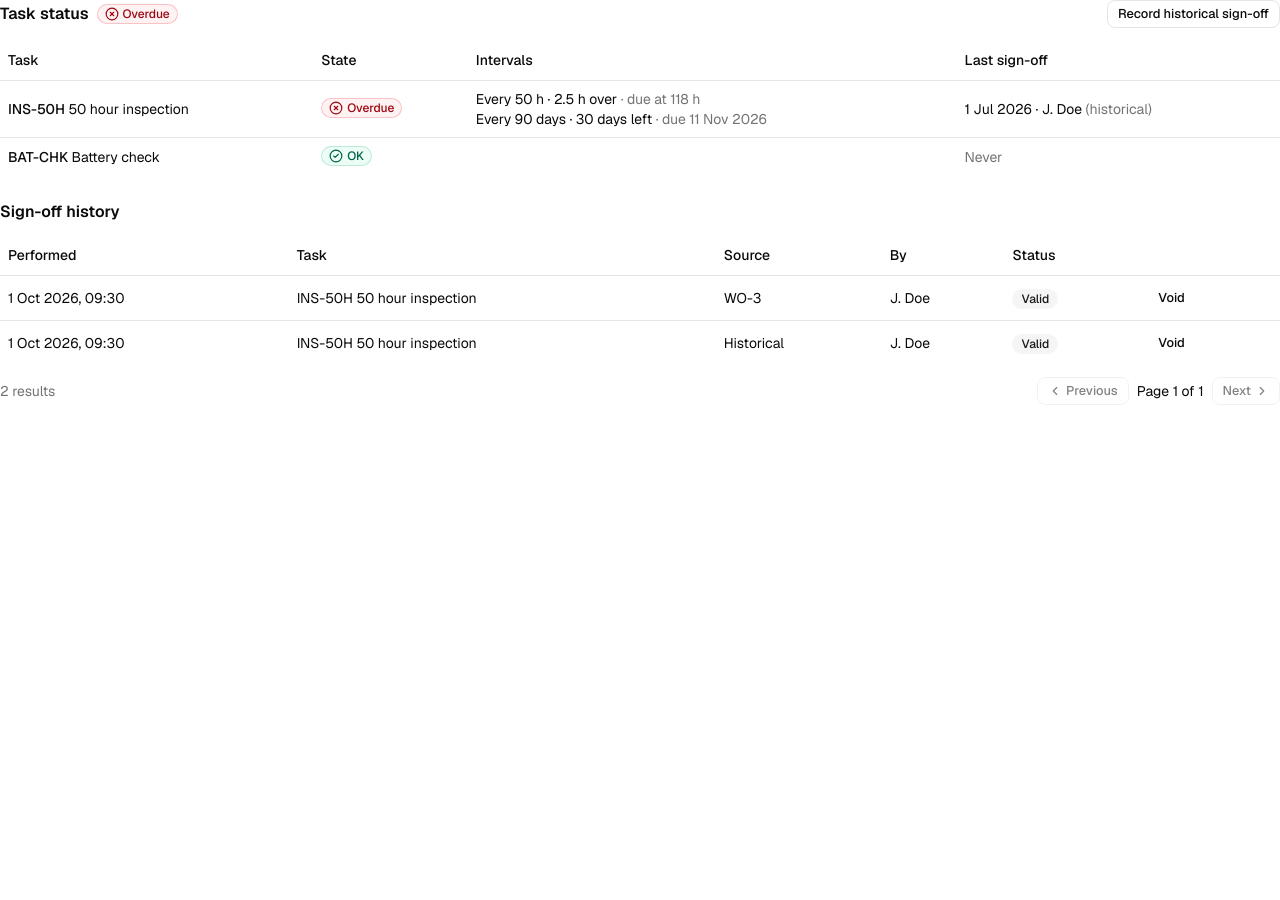
Test case: AircraftMaintenance › historical sign-off › attaches server field errors to their fields
Click the button "Record historical sign-off". click: [1194, 14]
box: [1107,0,1279,28]
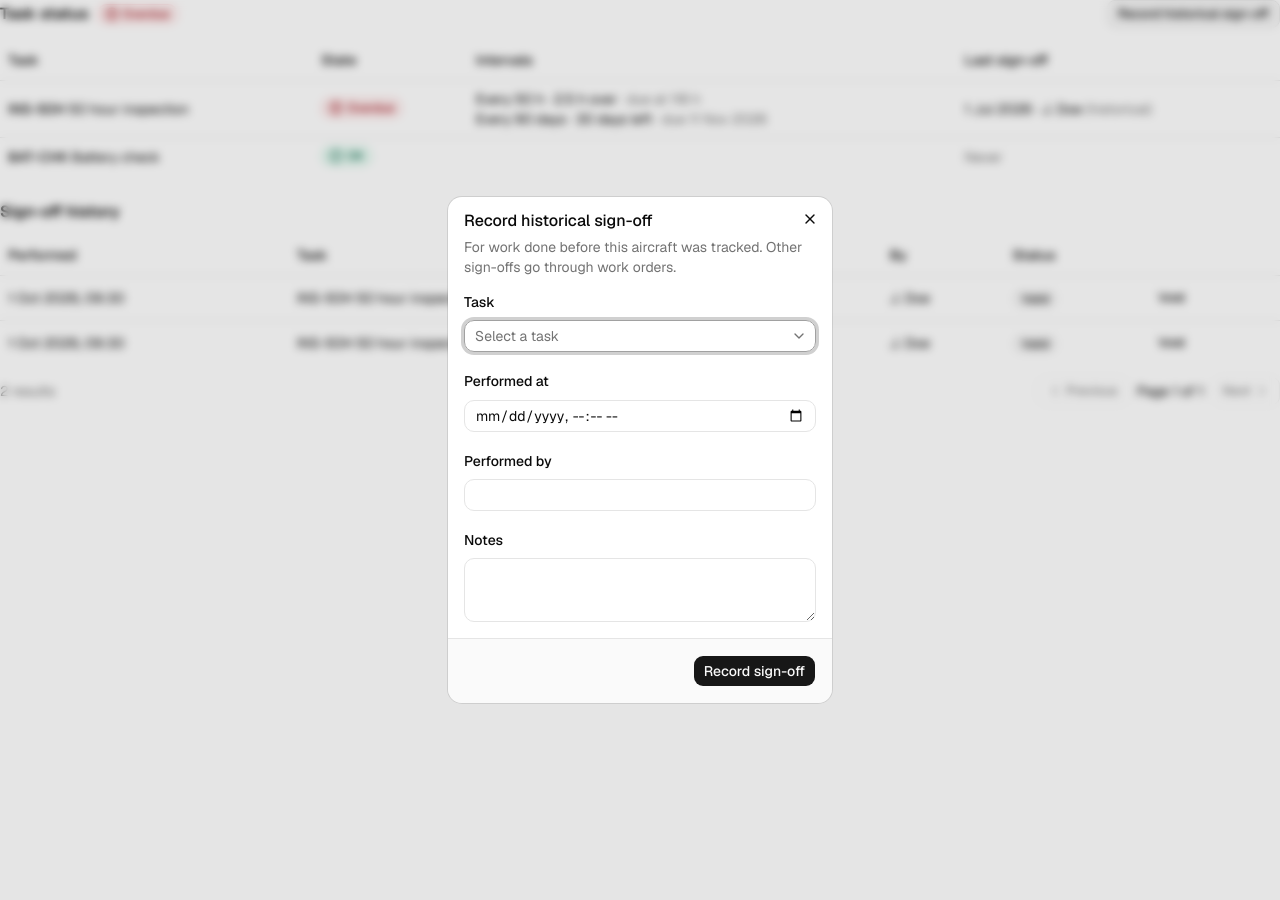
Click the dropdown. click: [517, 336]
box: [464,320,816,352]
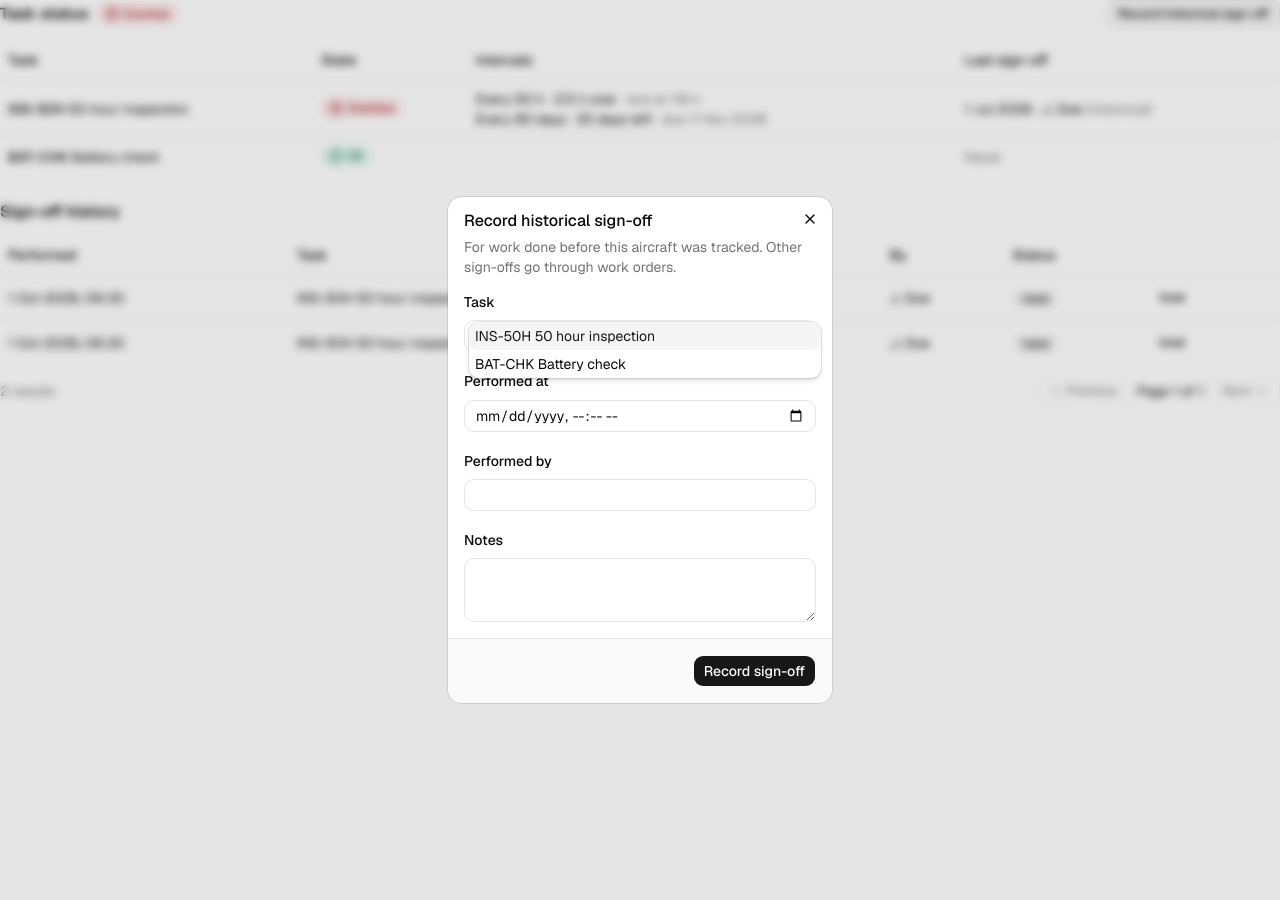
Click the option "BAT-CHK Battery check". click: [551, 364]
box: [475,355,626,373]
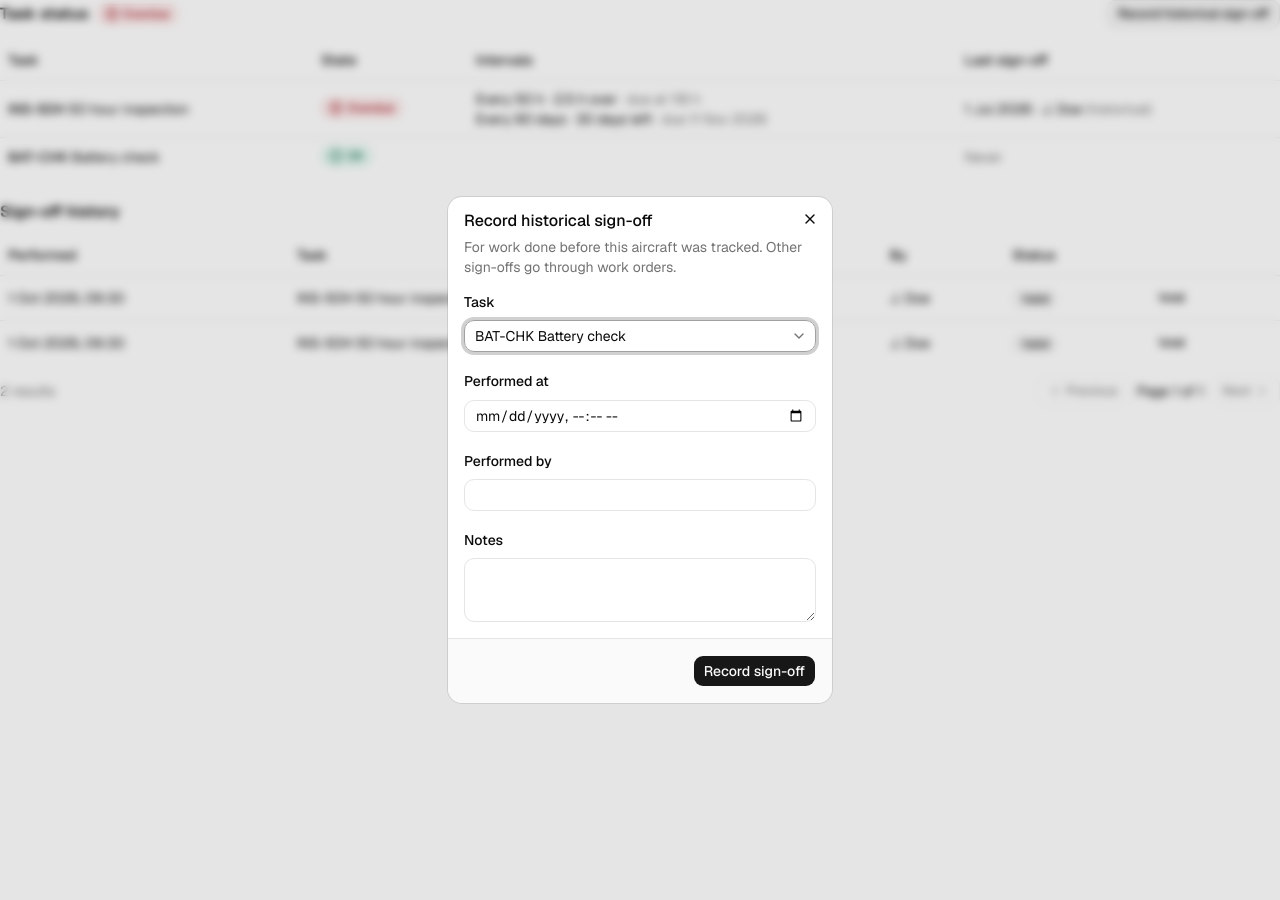
Type "2026-06-01T10:30" into the field labelled "Performed at". click: [640, 416]
box: [464,400,816,432]
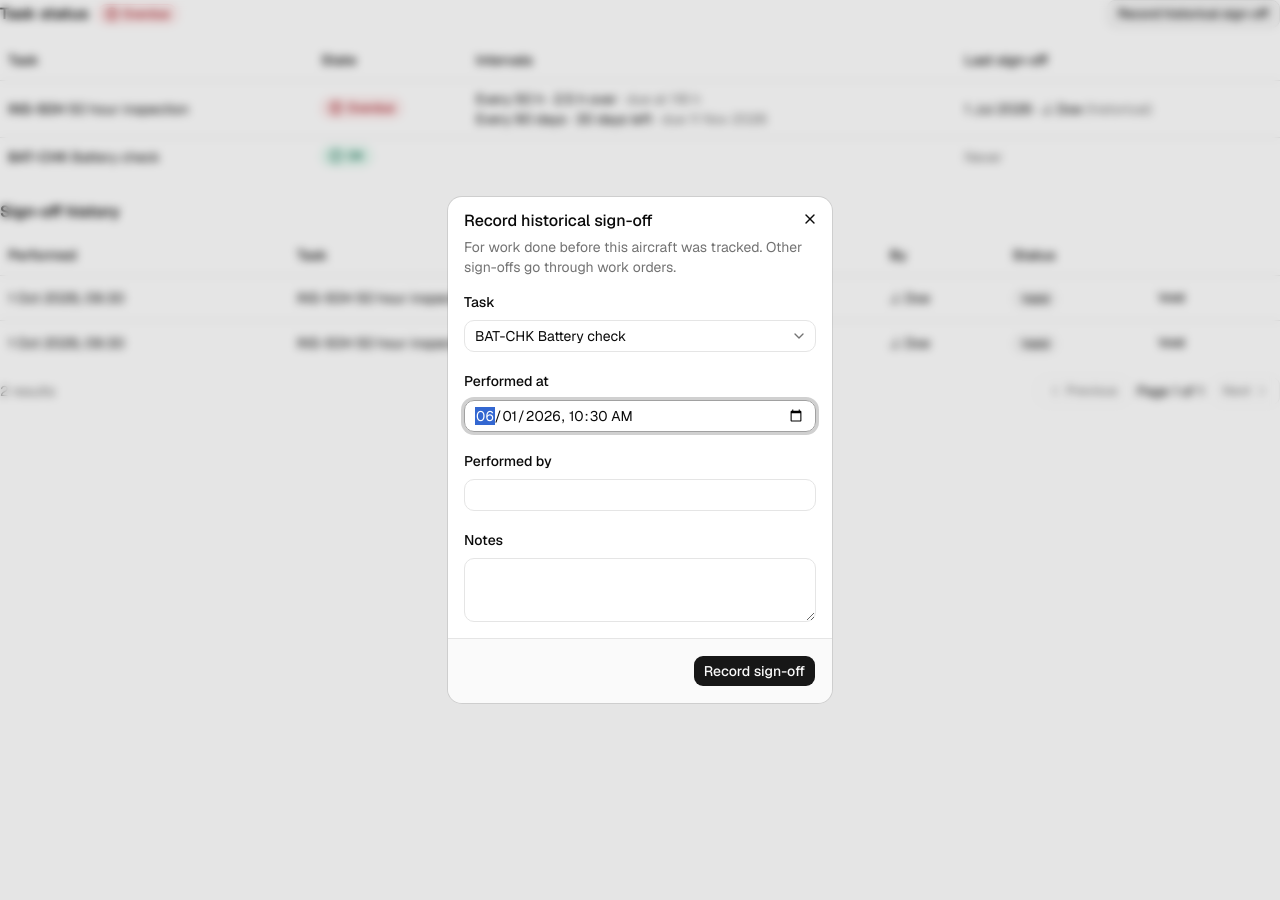
Type "  A. Tech " into the field labelled "Performed by". click: [640, 495]
box: [464,479,816,511]
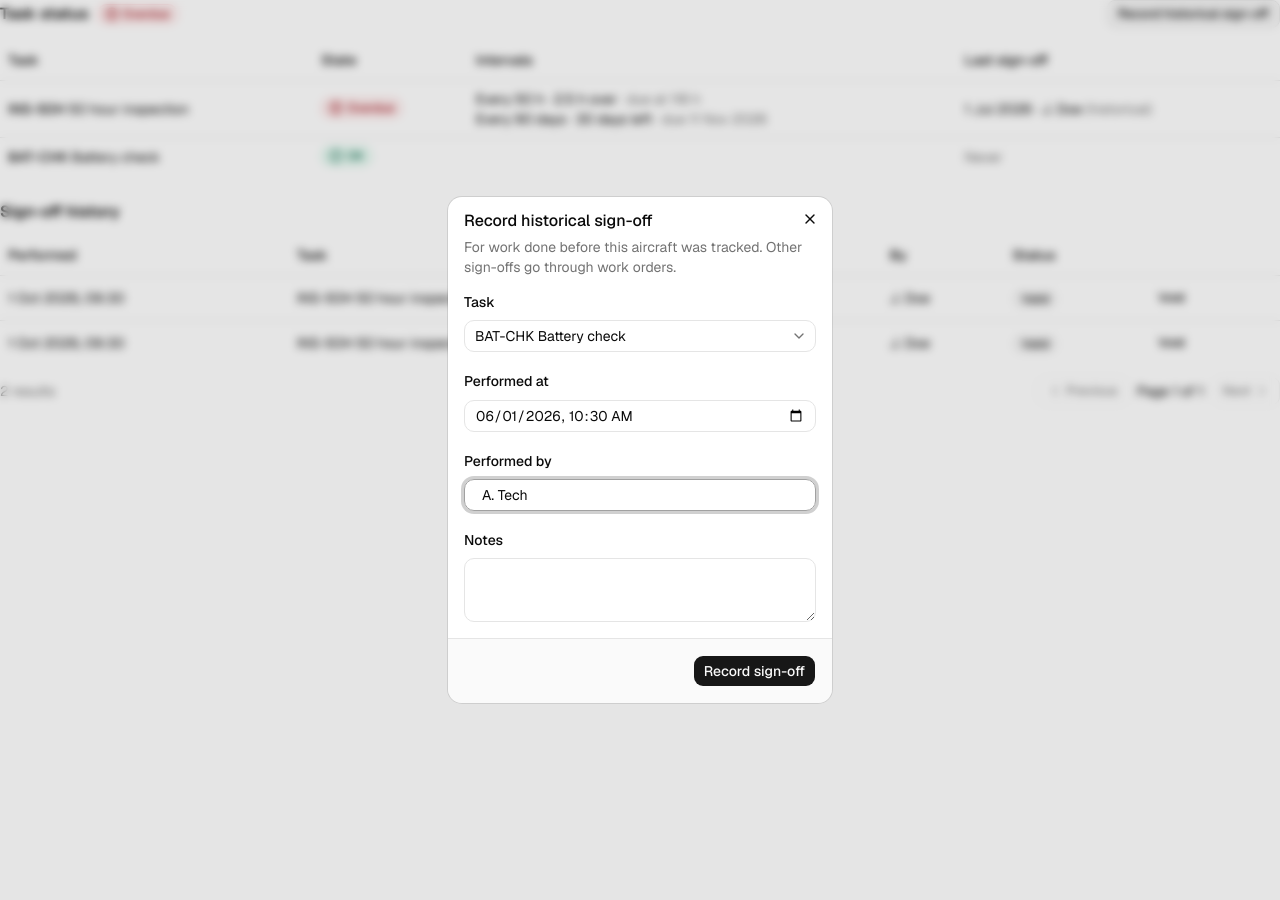
Click the button "Record sign-off". click: [754, 671]
box: [693,655,816,687]
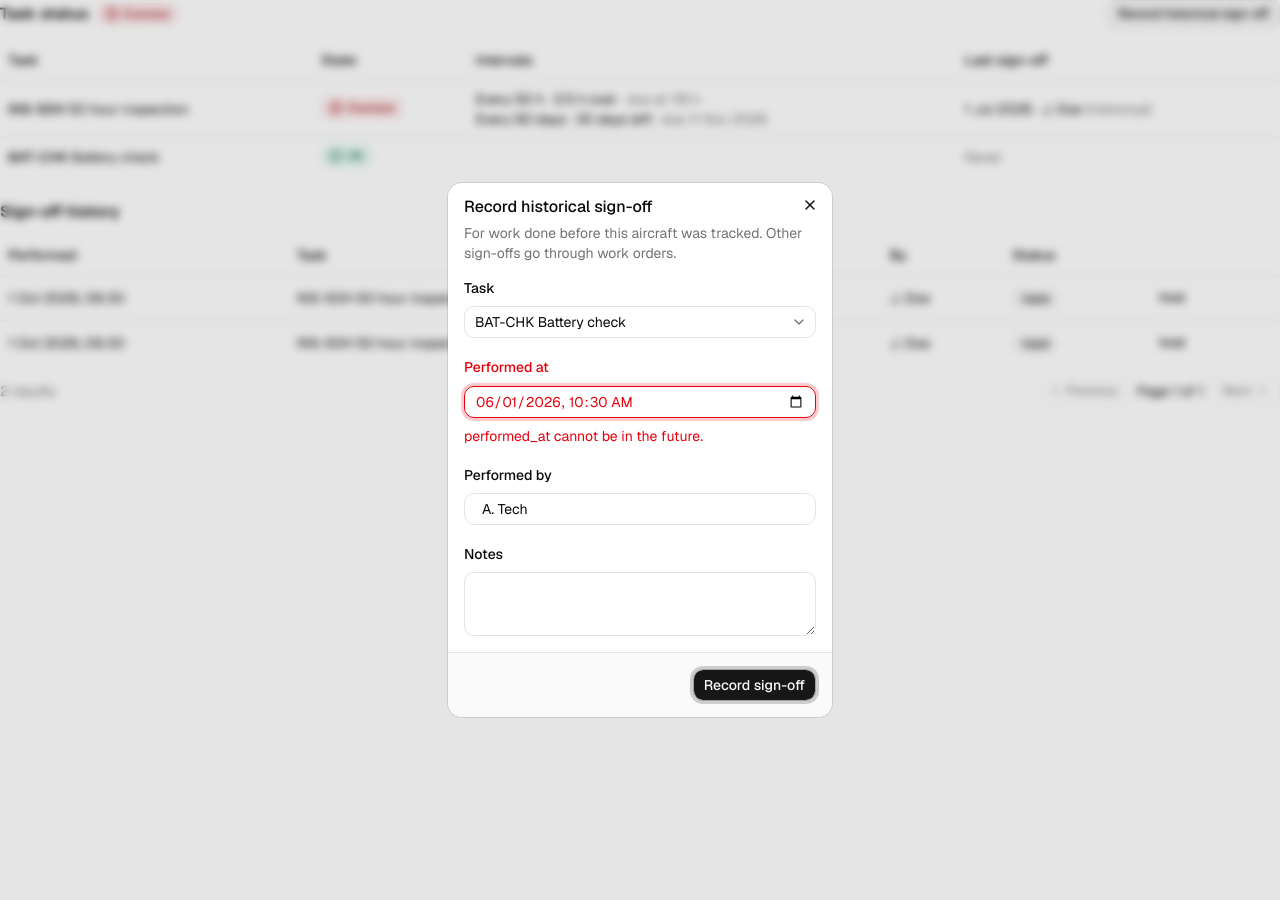
Now the dialog is shown, box [448,183,832,717]
Now the text "performed_at cannot be in the future." is shown, box [464,426,703,444]
